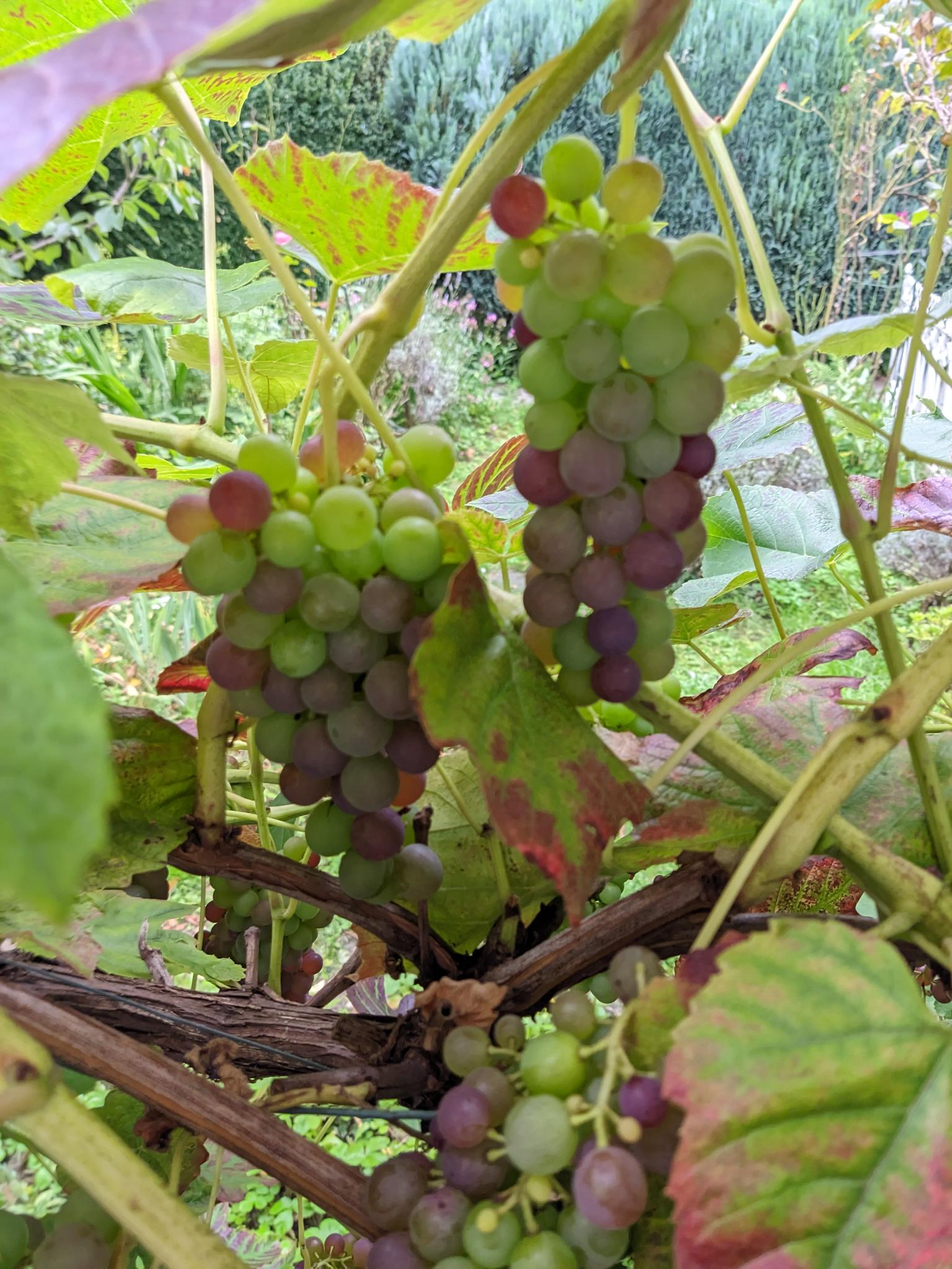Grape Unripe: (492, 137, 740, 704), (171, 426, 454, 898), (366, 982, 679, 1269), (206, 873, 333, 1001)
